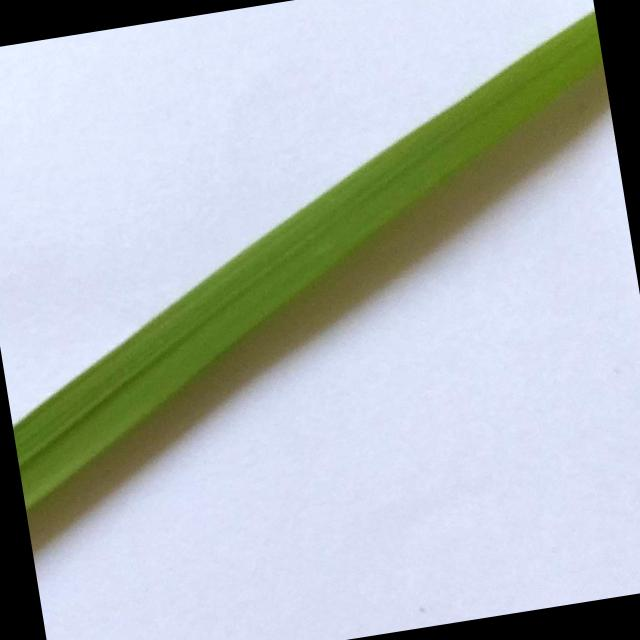Rice_Healthy: (13, 11, 603, 510)
